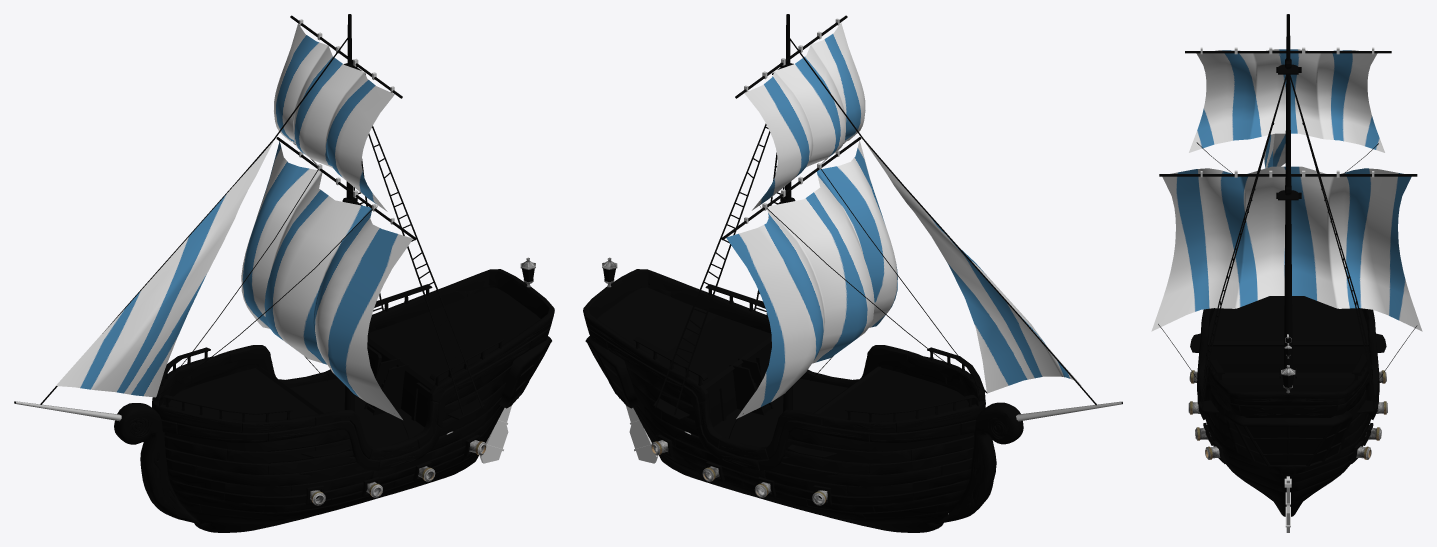
The model's file is Ships01.fbx.
The picture shows the model from 3 angles, left to right: view 1: azimuth 30°, elevation 25°; view 2: azimuth 150°, elevation 25°; view 3: azimuth 270°, elevation 25°; orthographic projection. The views are drawn at different scales.
Parts seen in each view (by area): view 1: Ship_01_LOD0; view 2: Ship_01_LOD0; view 3: Ship_01_LOD0.
Part boxes in pixels (x1,y1,x2,y2): Ship_01_LOD0: (14, 14, 554, 532); Ship_01_LOD0: (583, 14, 1122, 532); Ship_01_LOD0: (1151, 14, 1422, 532).
Size of what is drawn, in the model's own units: 34.15 by 30.64 by 16.43.
